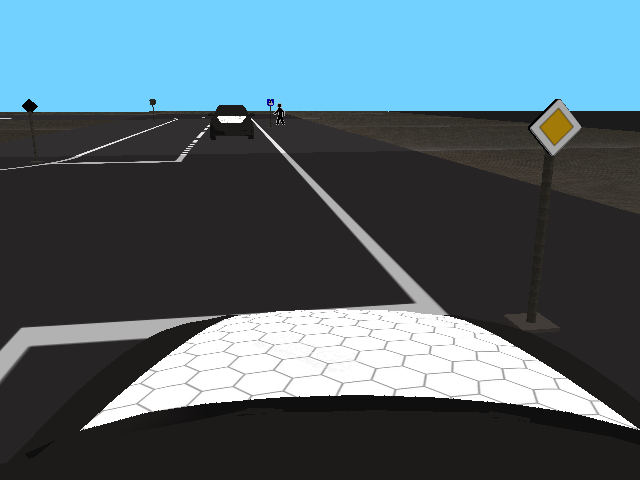priority: (528, 99, 583, 155)
